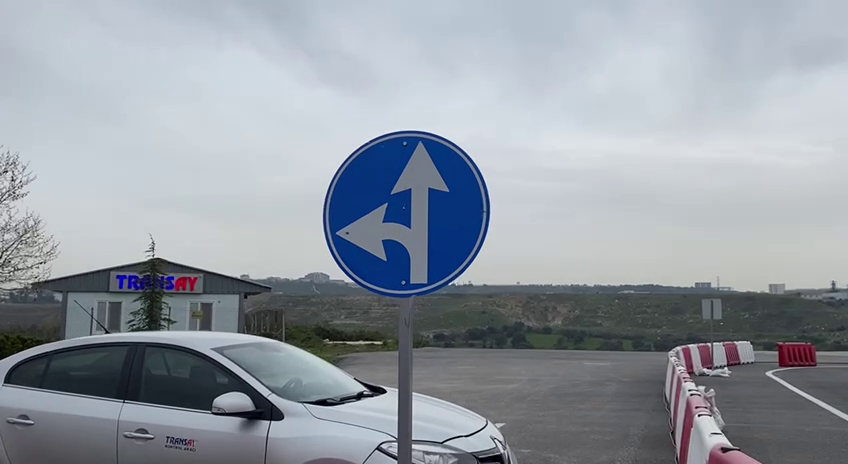forwardAndLeft: (319, 126, 496, 299)
